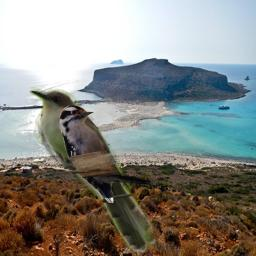Cuckoo: (28, 86, 156, 253)
Woodpecker: (59, 105, 151, 203)
